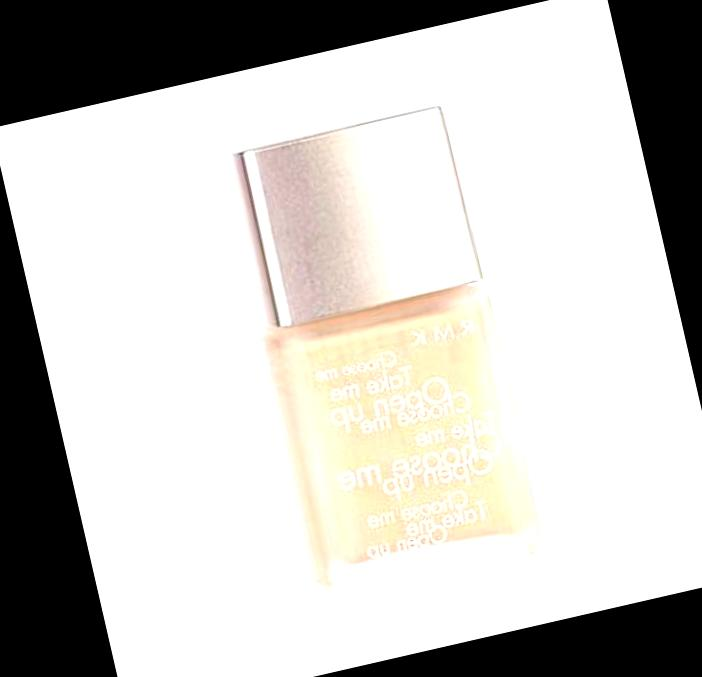cosmetic: (209, 100, 553, 607)
